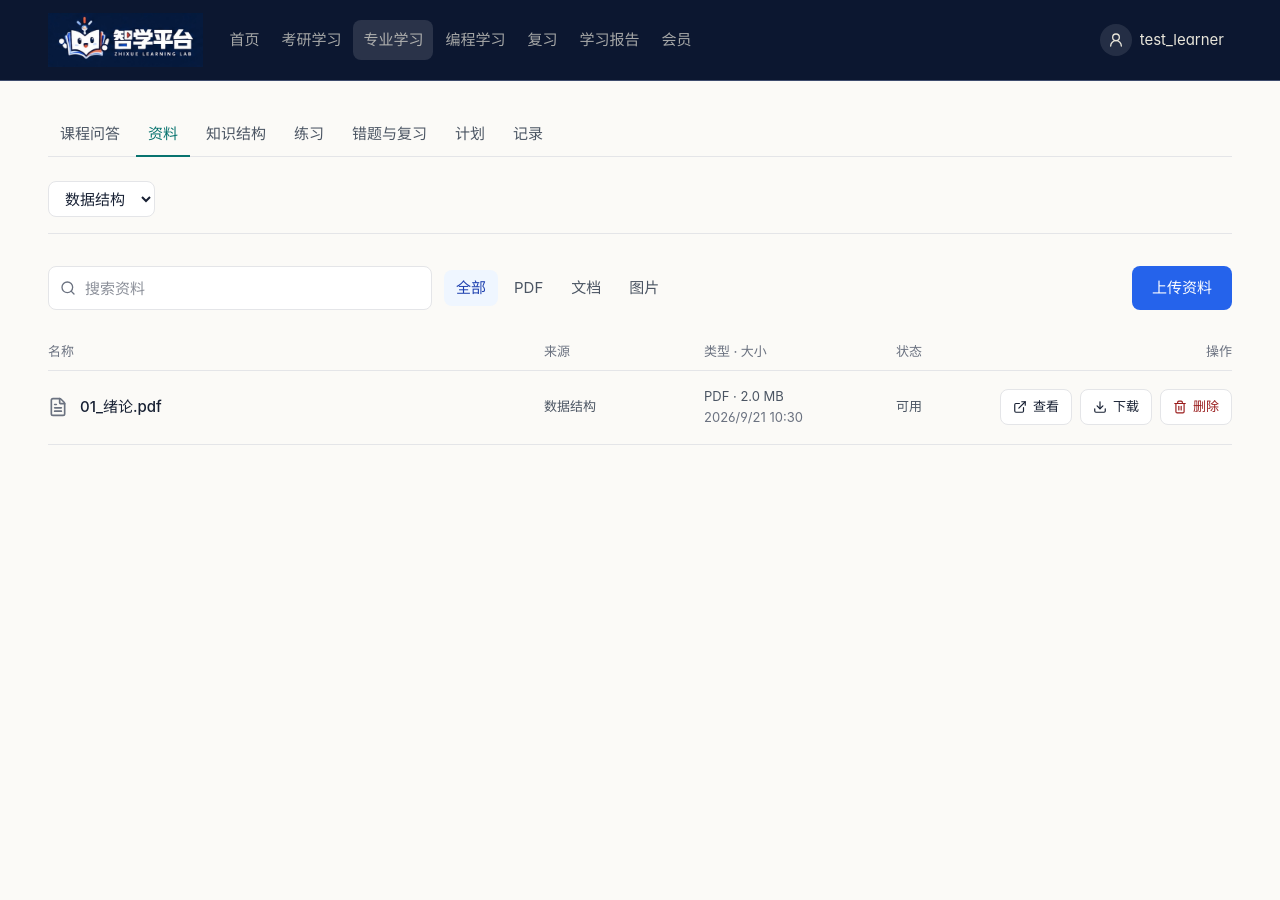
Test: CourseMaterialsPage › asks before deleting, and cancelling deletes nothing
The image size is (1280, 900).
Expected: the text "01_绪论.pdf" is shown, top-left (80, 396), bottom-right (162, 418)
Click the button "删除" at (1196, 407), box top-left (1160, 389), bottom-right (1232, 425)
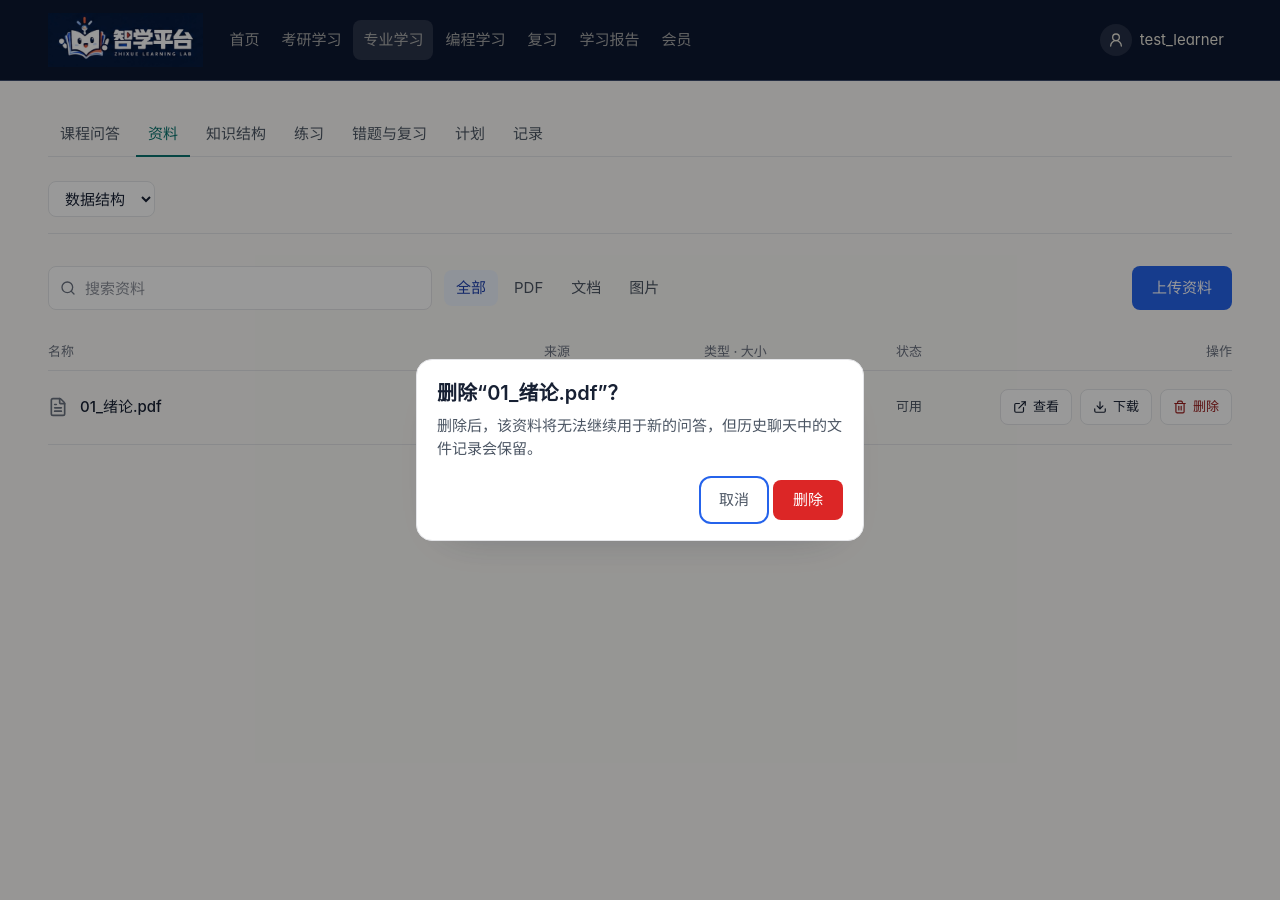
Expected: the dialog shows "删除“01_绪论.pdf”？", top-left (437, 381), bottom-right (628, 405)
Expected: the dialog shows "历史聊天中的文件记录会保留", top-left (437, 416), bottom-right (842, 458)
Click the button "取消" at (734, 500), box top-left (703, 480), bottom-right (765, 520)
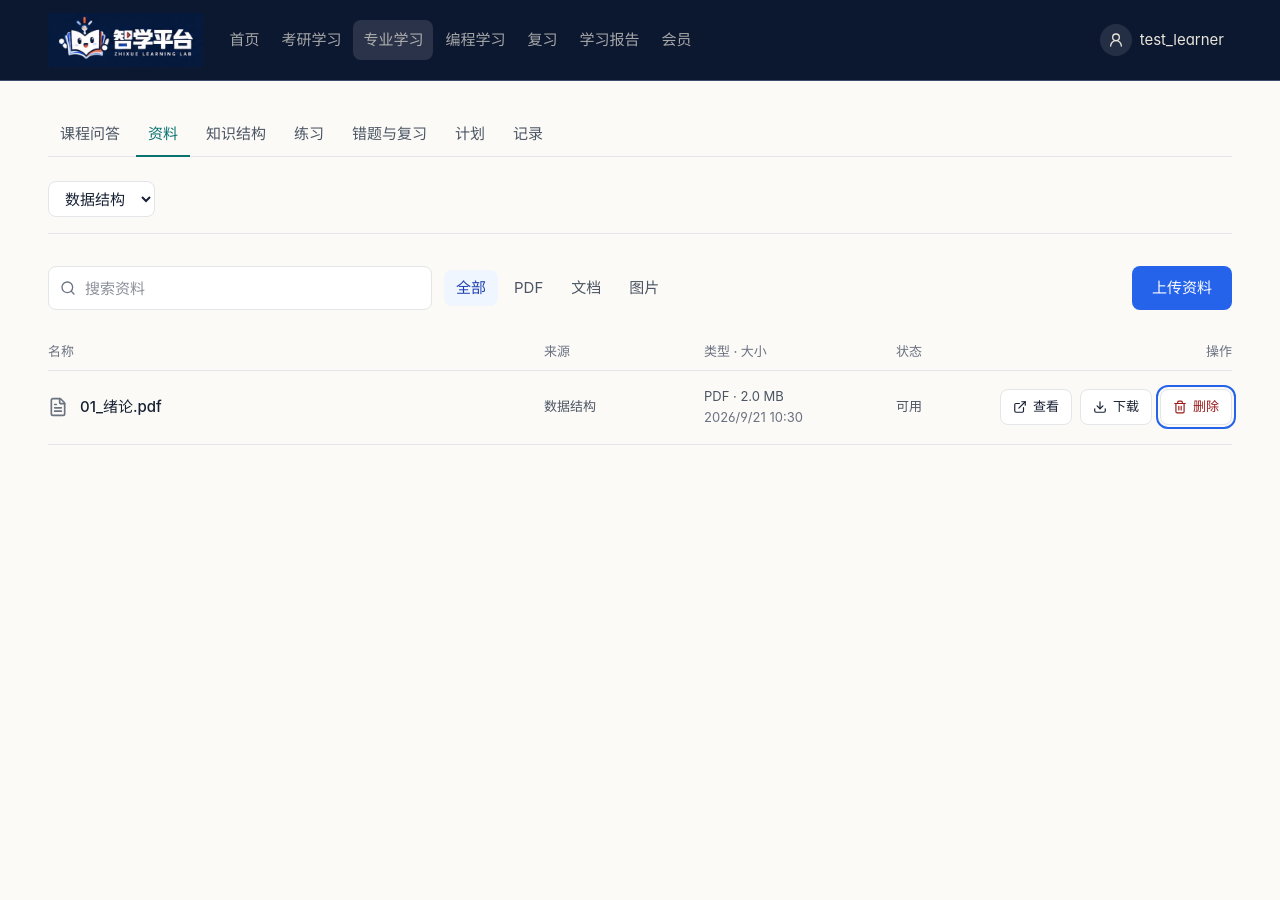
Expected: the text "01_绪论.pdf" is shown, top-left (80, 396), bottom-right (162, 418)
Expected: the dialog is gone
